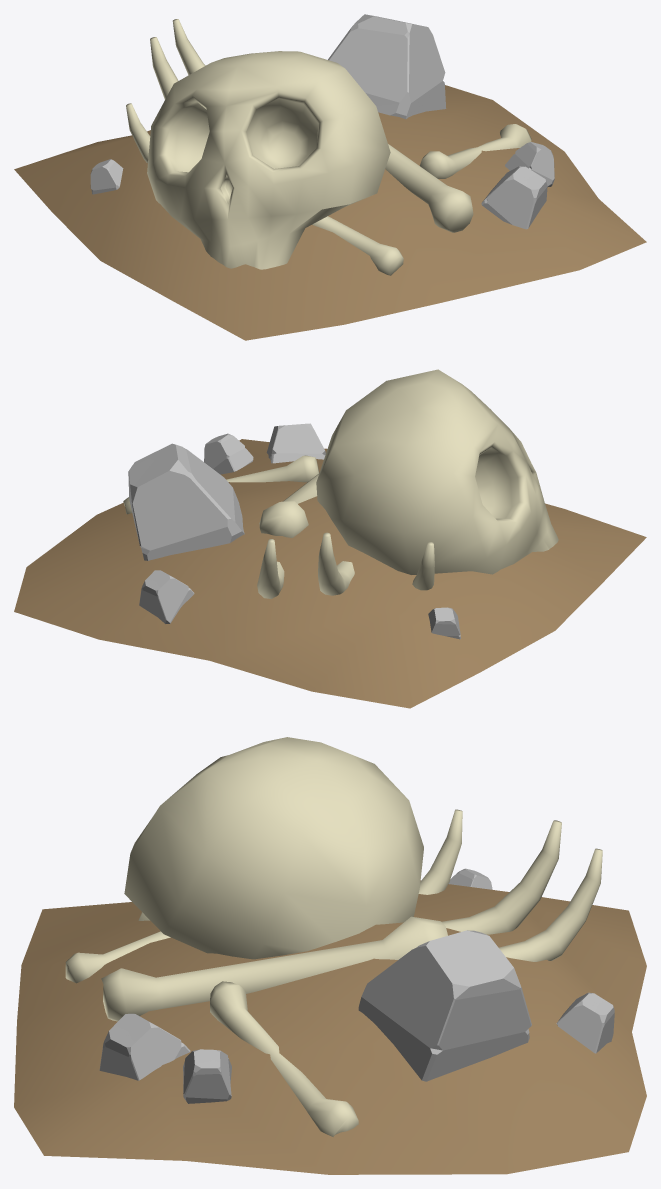
The model's file is BonesBox_9.fbx.
3 views of the same model, one above another, from view 1: azimuth 30°, elevation 25°; view 2: azimuth 150°, elevation 25°; view 3: azimuth 270°, elevation 25° (orthographic). The views are drawn at different scales.
Parts seen in each view (by area): view 1: bones.008; view 2: bones.008; view 3: bones.008.
Boxes of the visible parts, box(x1,y1,x2,y2) form: bones.008: box(14, 14, 646, 340); bones.008: box(14, 369, 646, 708); bones.008: box(14, 737, 646, 1174).
Bounding box in the file's own units: 428 × 165 × 406.
